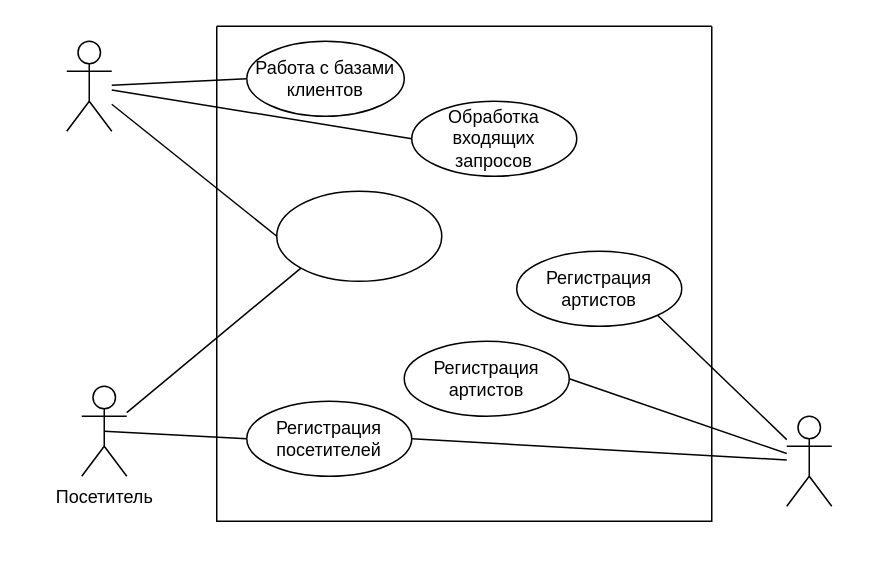
Some shapes in this 890 by 587 pixel diagram are drawn without their labels. Each missing label, with the centre of its shape:
"Организатор мероприятия" goes at (808,460).
"Передача личных данных в систему" goes at (358,235).
"Системный администратор" goes at (88,85).
